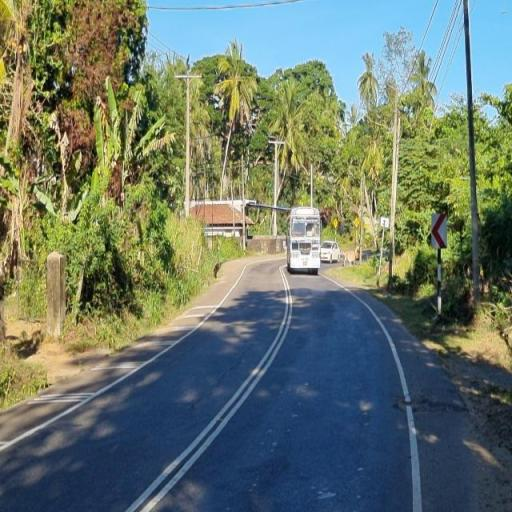double_white_line: (123, 262, 297, 512)
